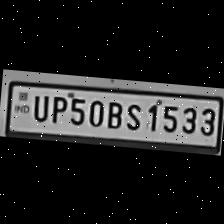0: (86, 96, 106, 128)
1: (142, 99, 160, 132)
3: (197, 101, 219, 136), (178, 102, 200, 133)
5: (64, 92, 88, 126), (158, 99, 180, 133)
B: (102, 96, 125, 130)
P: (46, 90, 68, 124)
S: (122, 98, 144, 132)
U: (28, 89, 51, 122)
